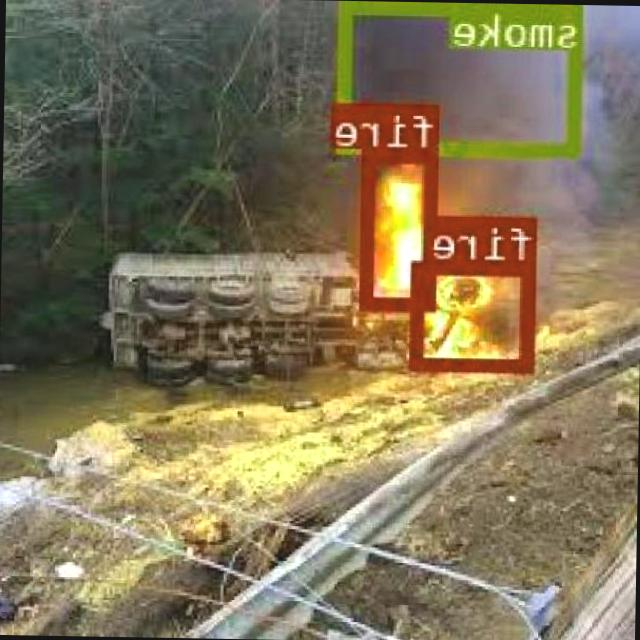fire: (412, 258, 538, 369), (363, 148, 440, 308)
smoke: (340, 1, 584, 152)
